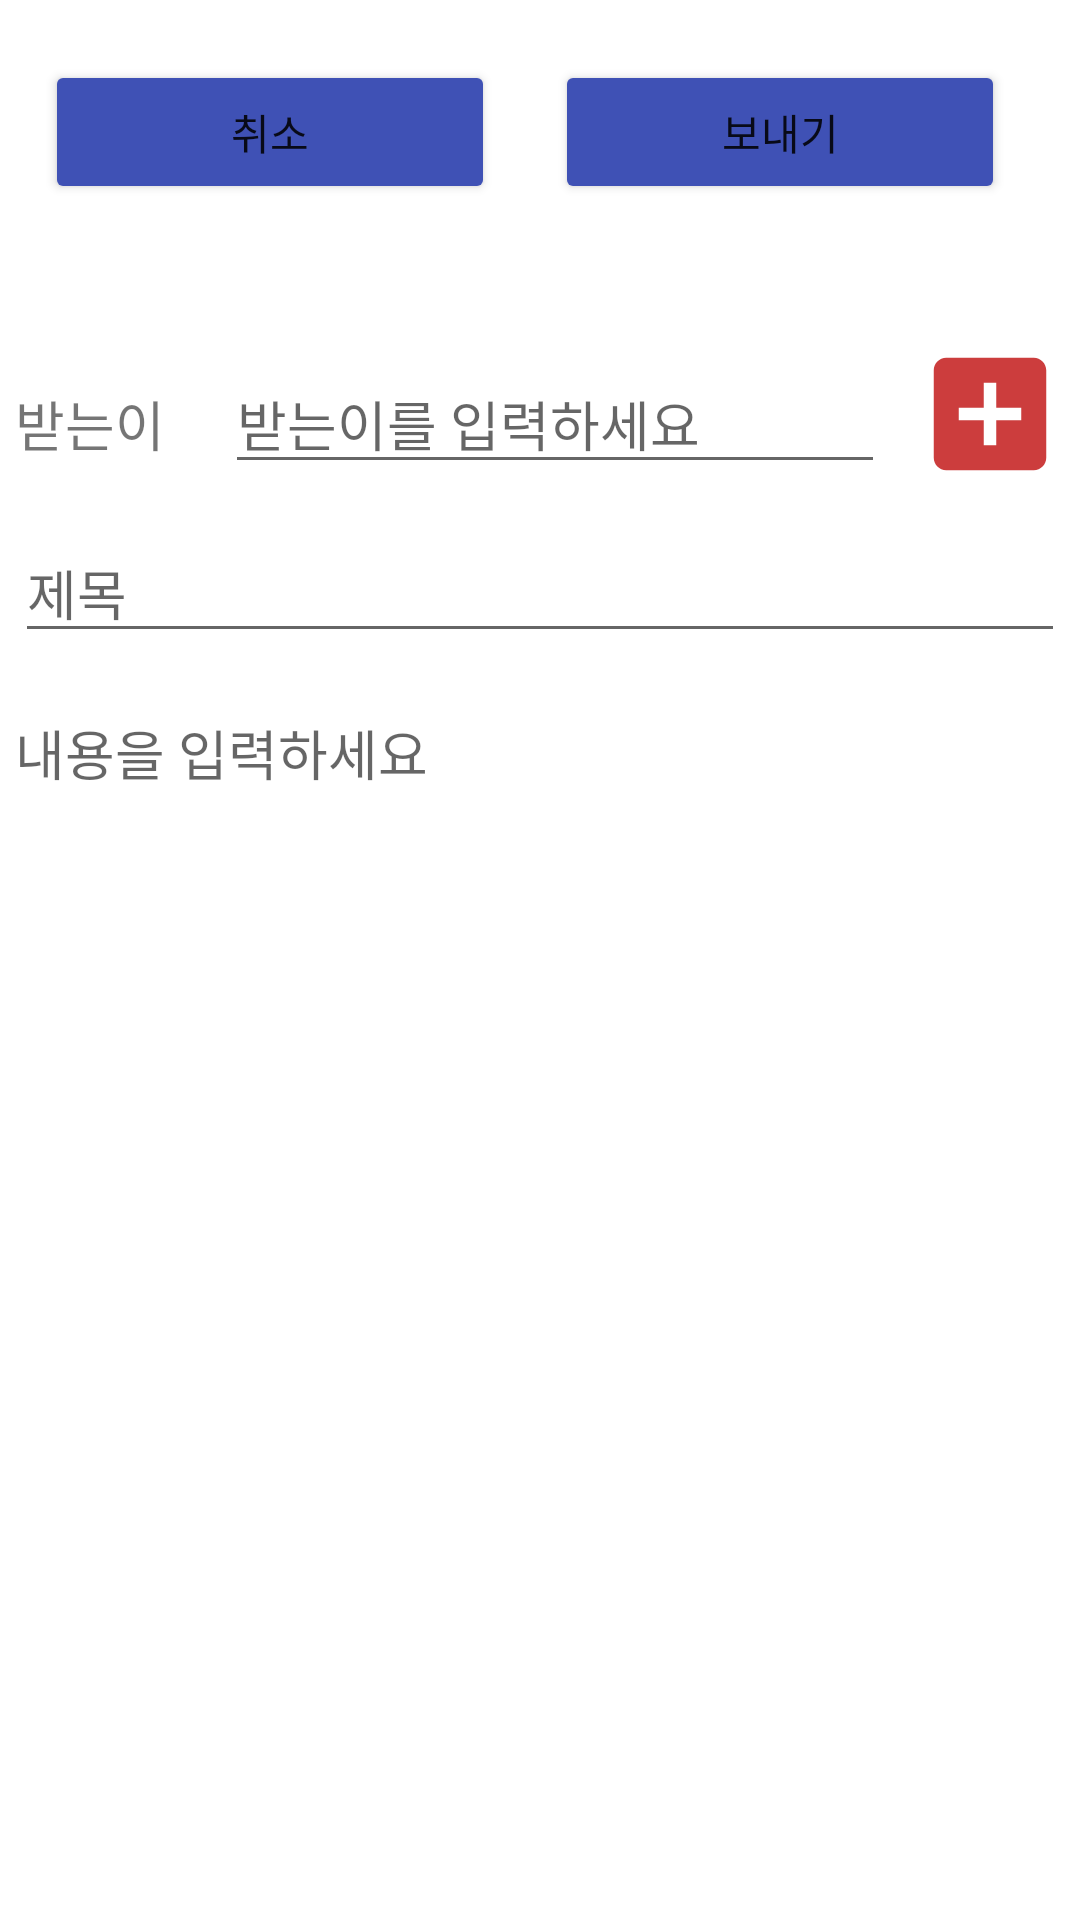

Named icons in this screenshot (1080 x 1920) and their bounding boxes, [left=x1, top=y1, right=x2, bottom=y2]:
add box: [left=933, top=357, right=1047, bottom=471]
